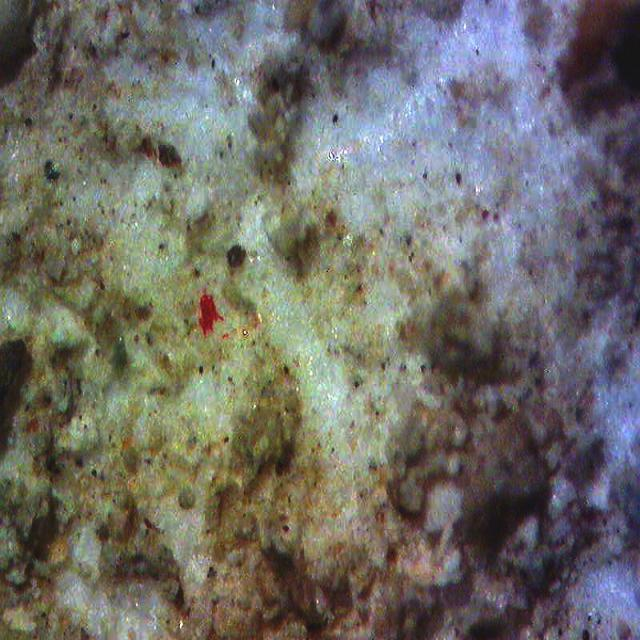microplastic: (199, 293, 217, 334)
